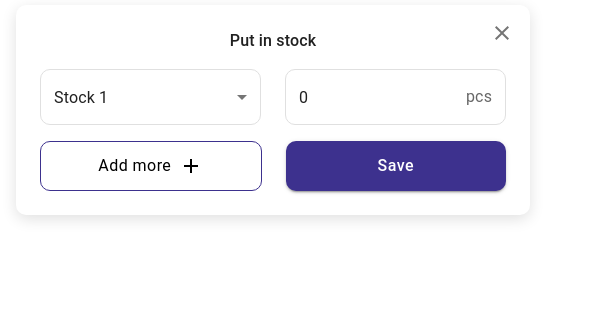
Test: PutInStockPopup › removes a row when delete button is clicked
# Add a new row first
Click the button "Add more": (151, 166) [40,141,262,191]
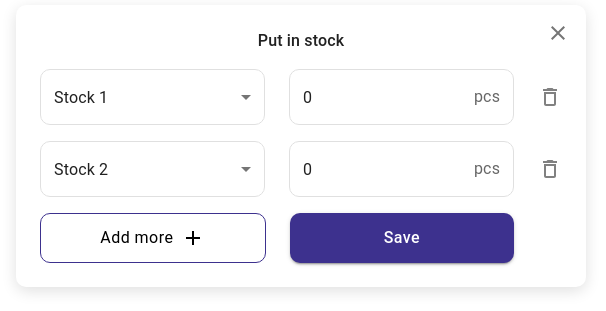
# Find and click the delete button
Click the 1st icon with test id "DeleteOutlineIcon": (550, 97) [538,85,562,109]
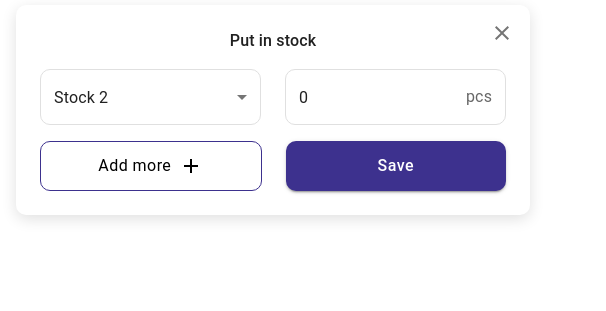
Now the dropdown "Stock 1" is gone
Now the dropdown "Stock 2" is shown, box [54,88,108,106]
